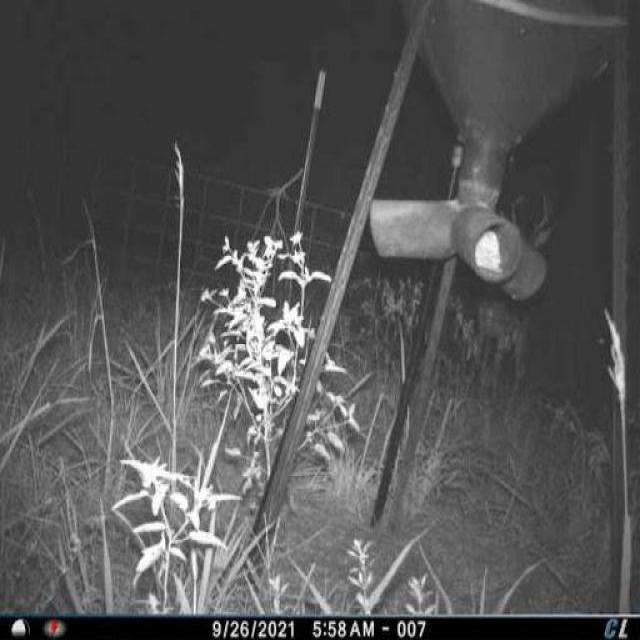deer: (459, 180, 570, 389)
